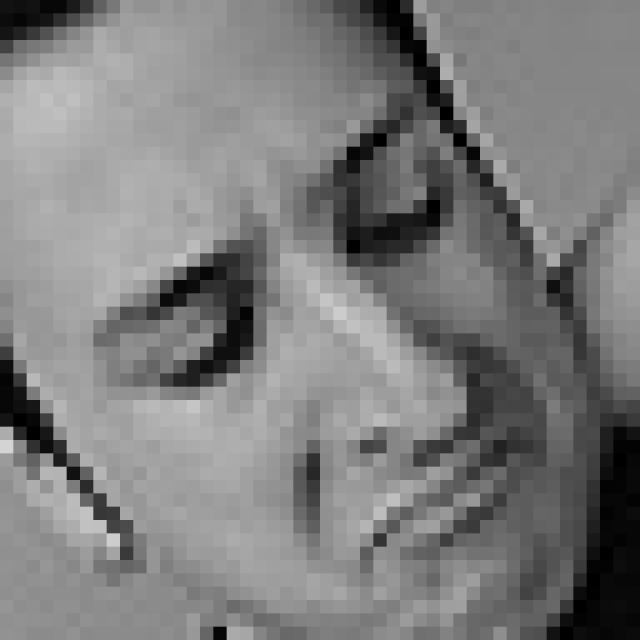disgust: (105, 99, 550, 600)
